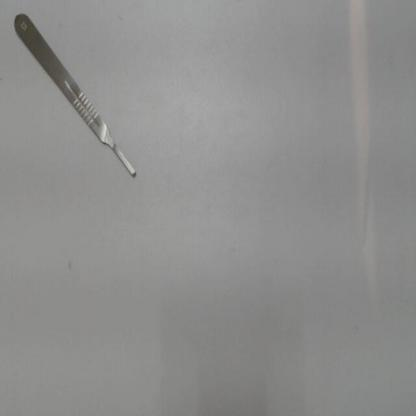No.4 BP Handle: (10, 8, 141, 184)
